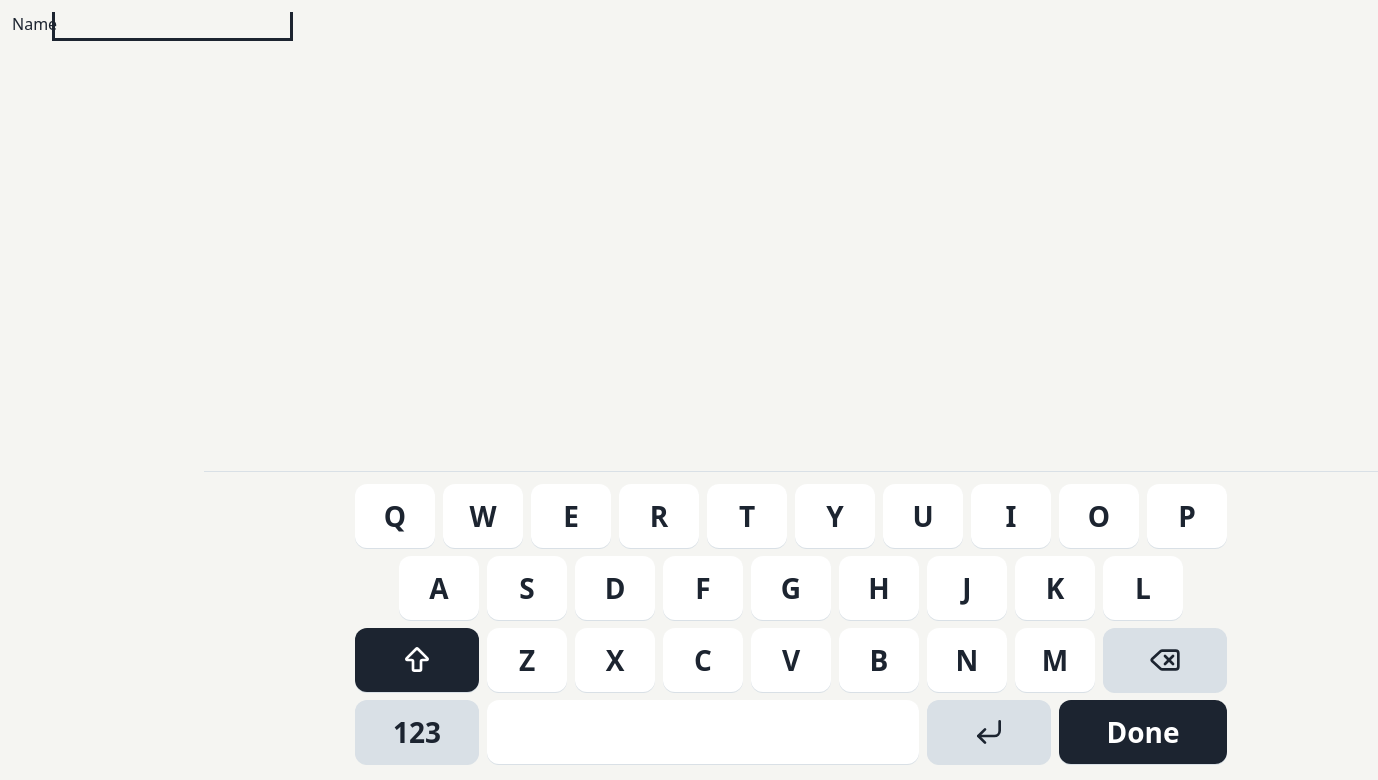
Test: the on-screen keyboard (UX §1) › shows letters only, with the numbers on 123, and the number pad unchanged
Click the button named "Numbers and symbols": (417,732) [355,700,479,764]
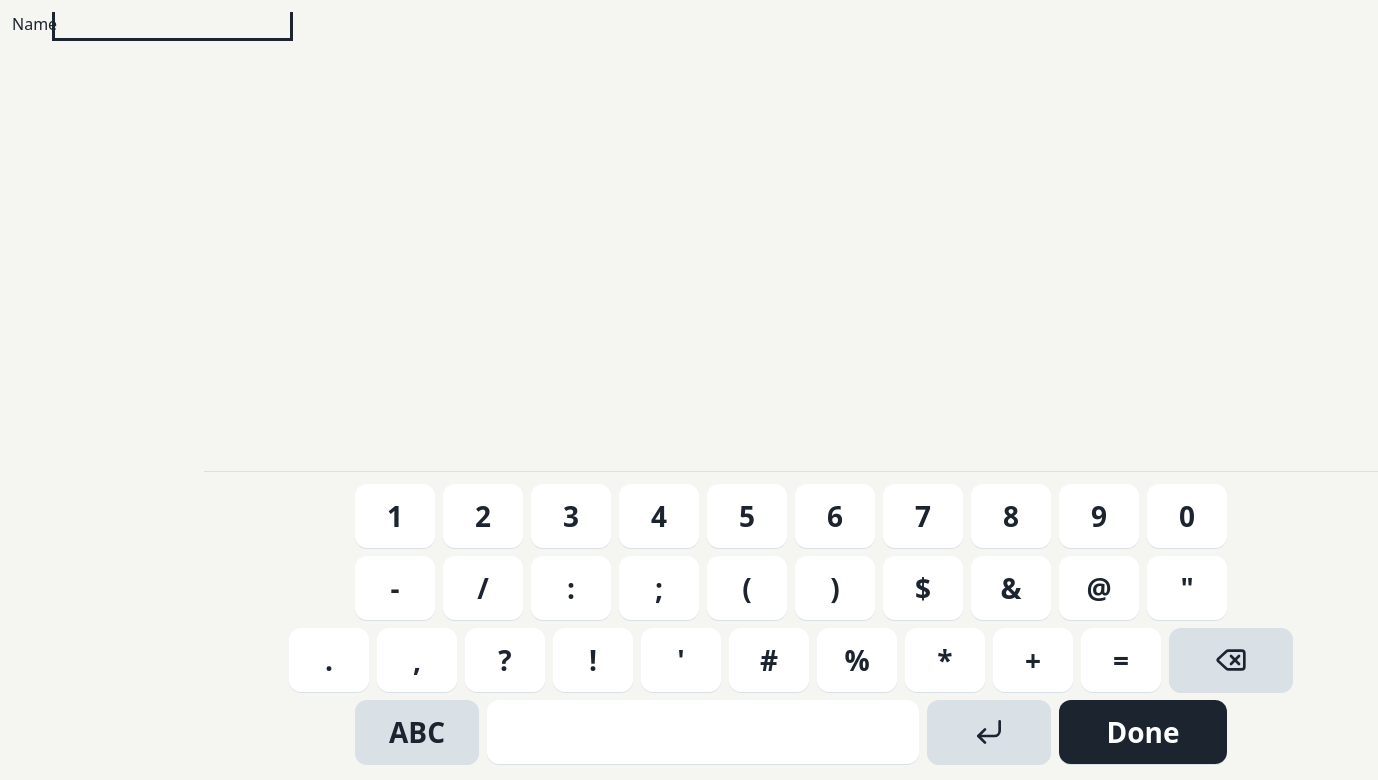
Check: the number of buttons "1" is 1, box [355,484,435,548]
Click the button "2": (483,516) [443,484,523,548]
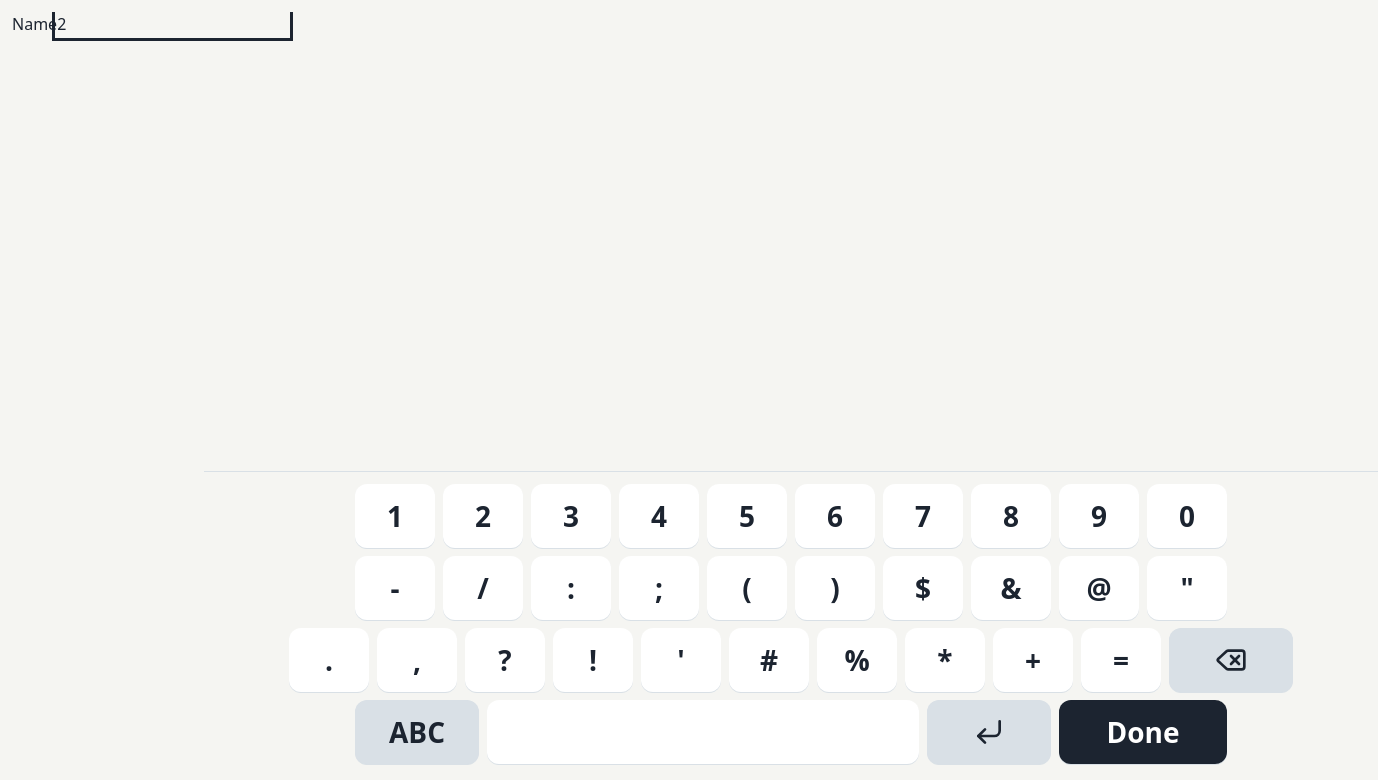
Click the button with aria-label "Letters": (417,732) [355,700,479,764]
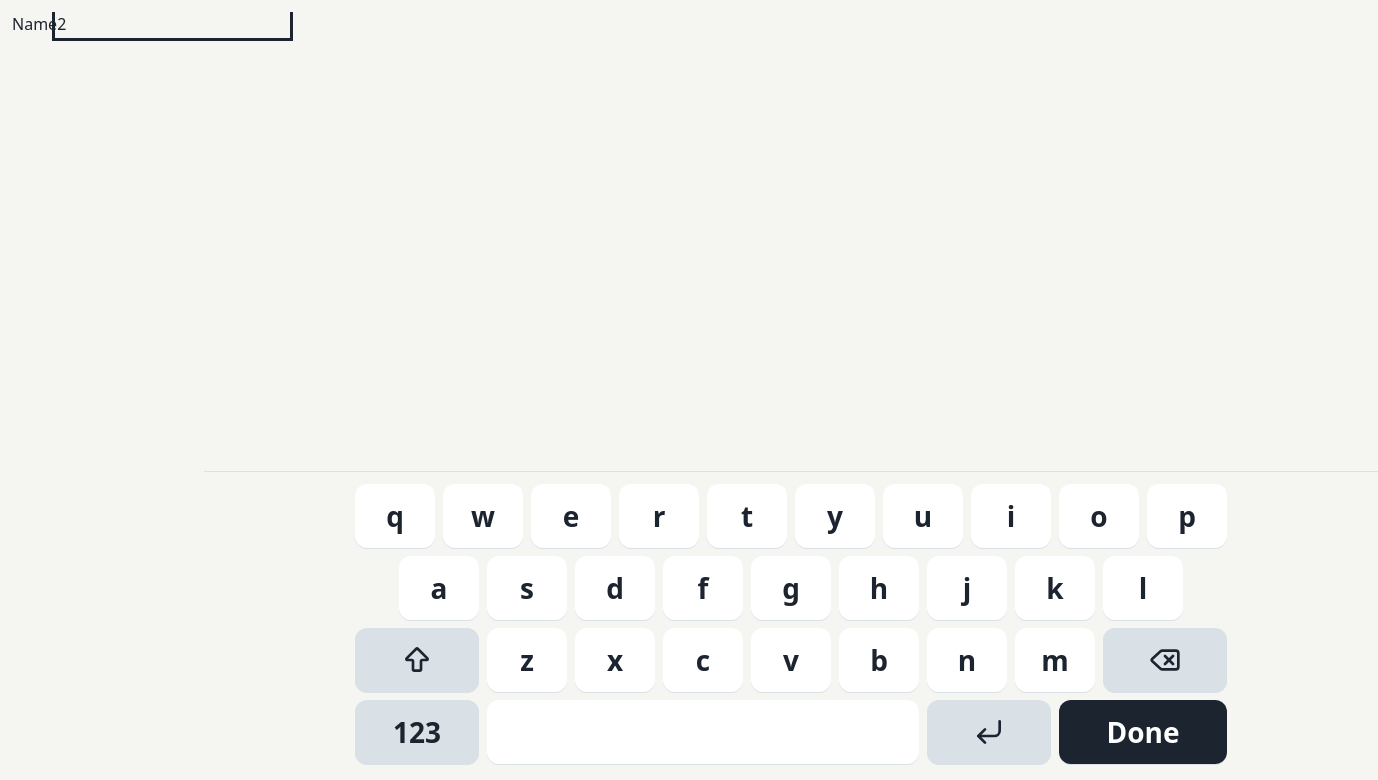
Click the button "b": (879,660) [839,628,919,692]
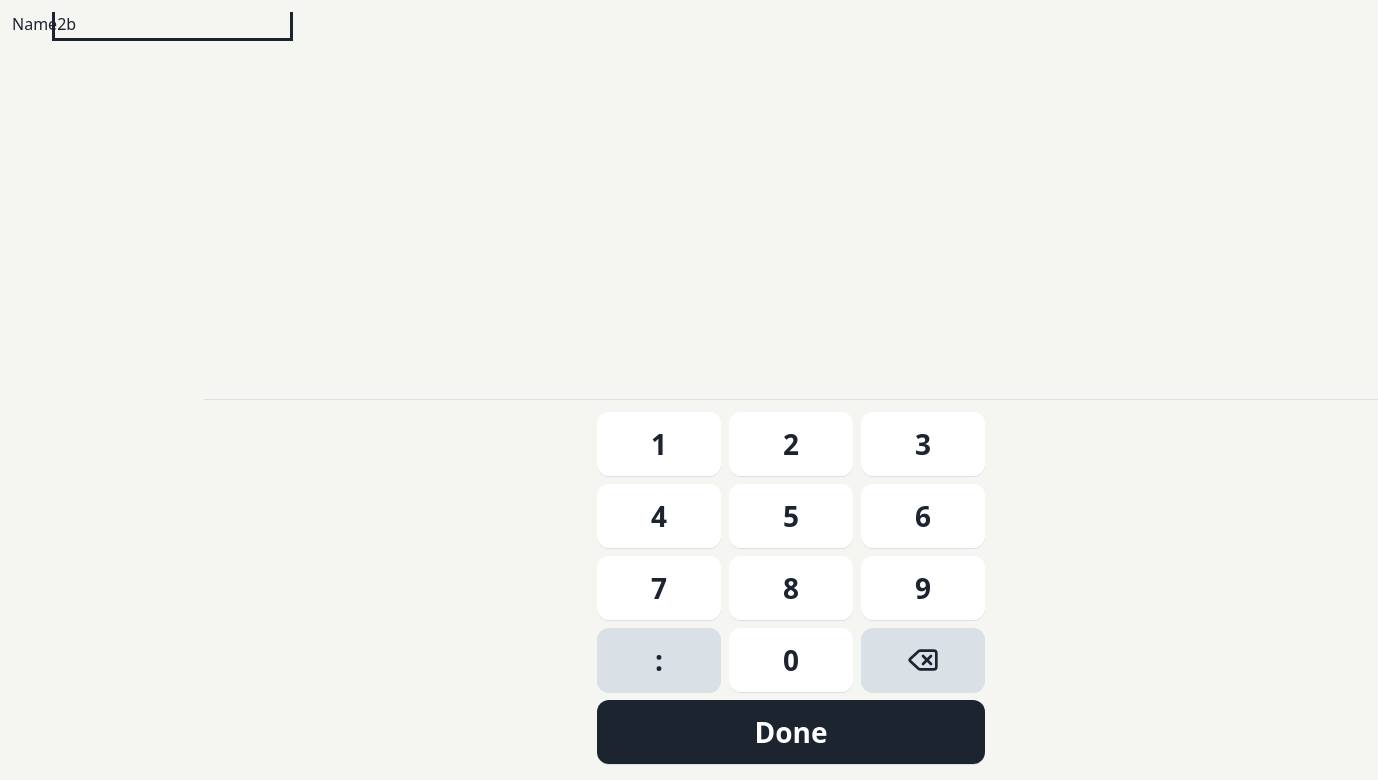
Check: the field labelled "Name" holds "2b", box [57,12,288,36]
Check: the number of buttons "1" is 1, box [597,412,721,476]
Check: the button "q" is gone
